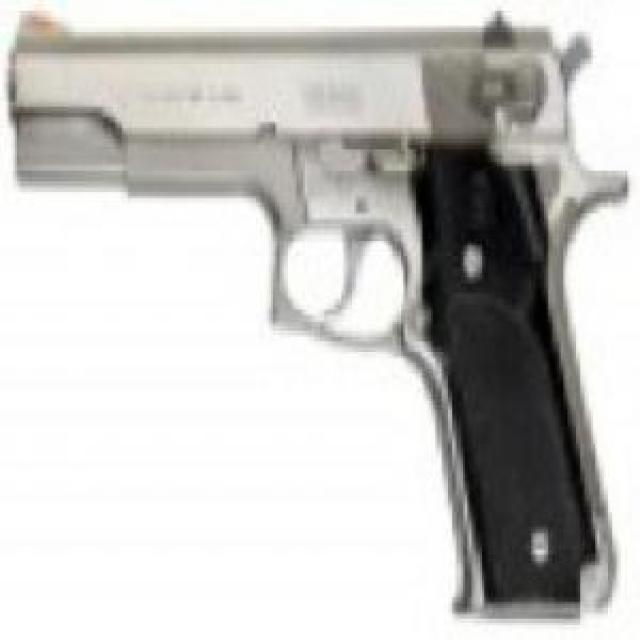pistol: (4, 7, 617, 614)
